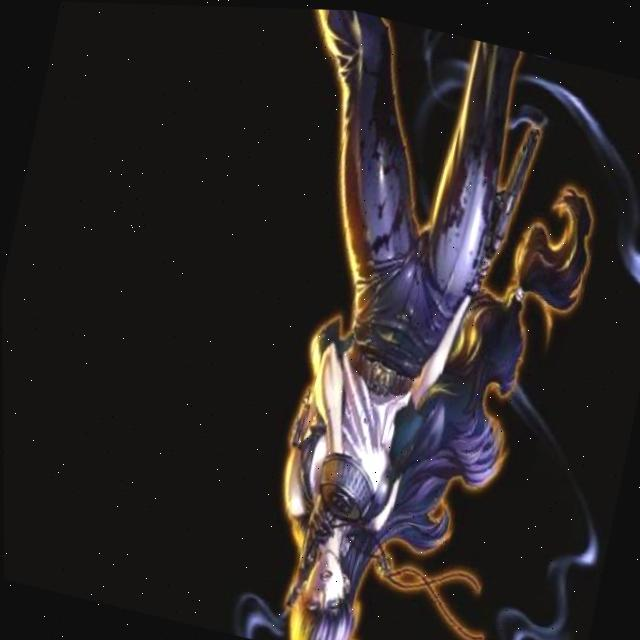gun: (478, 114, 544, 257), (281, 502, 336, 614)
